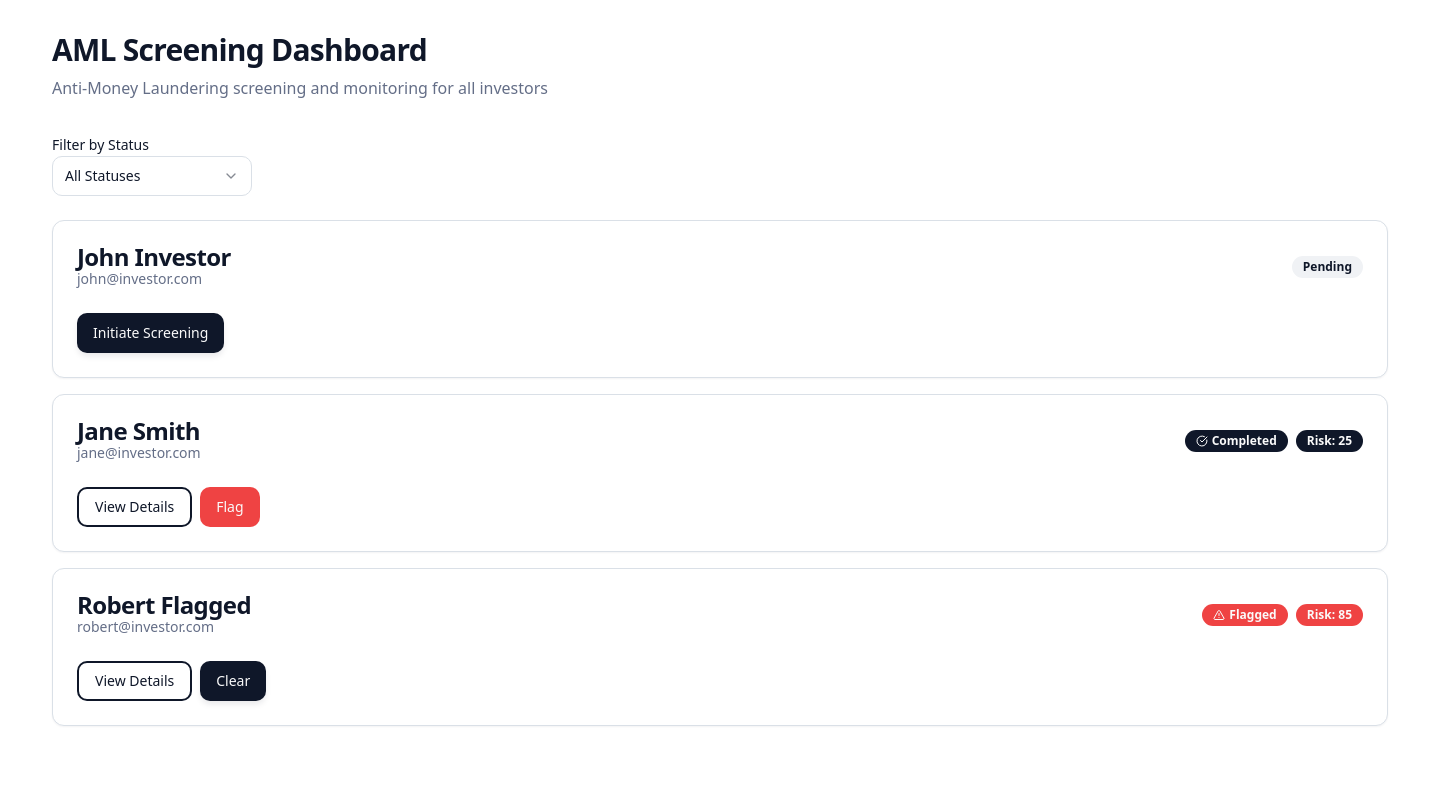
Test case: US-COMPLIANCE-002: AML Screening › Flag Suspicious Activity › should open flag activity dialog with reason field
This screenshot has width=1440, height=810.
expect the text "Jane Smith" is shown: met, box left=77, top=419, right=201, bottom=443
Step 1. Click the button "Flag" → (230, 507), box left=200, top=487, right=260, bottom=527
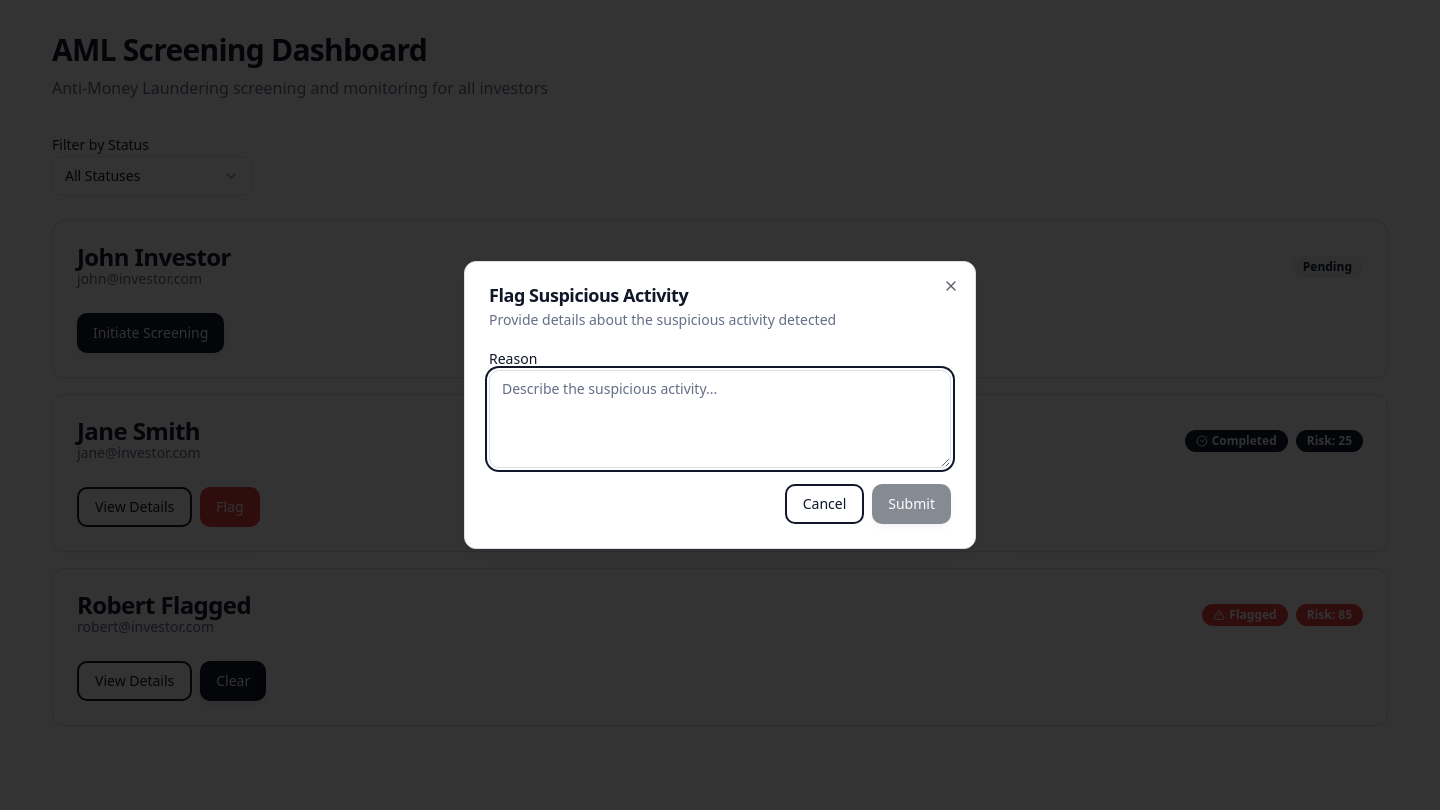
expect the heading "Flag Suspicious Activity" is shown: met, box left=489, top=283, right=688, bottom=307
expect the text box labelled "Reason" is shown: met, box left=489, top=370, right=951, bottom=468
